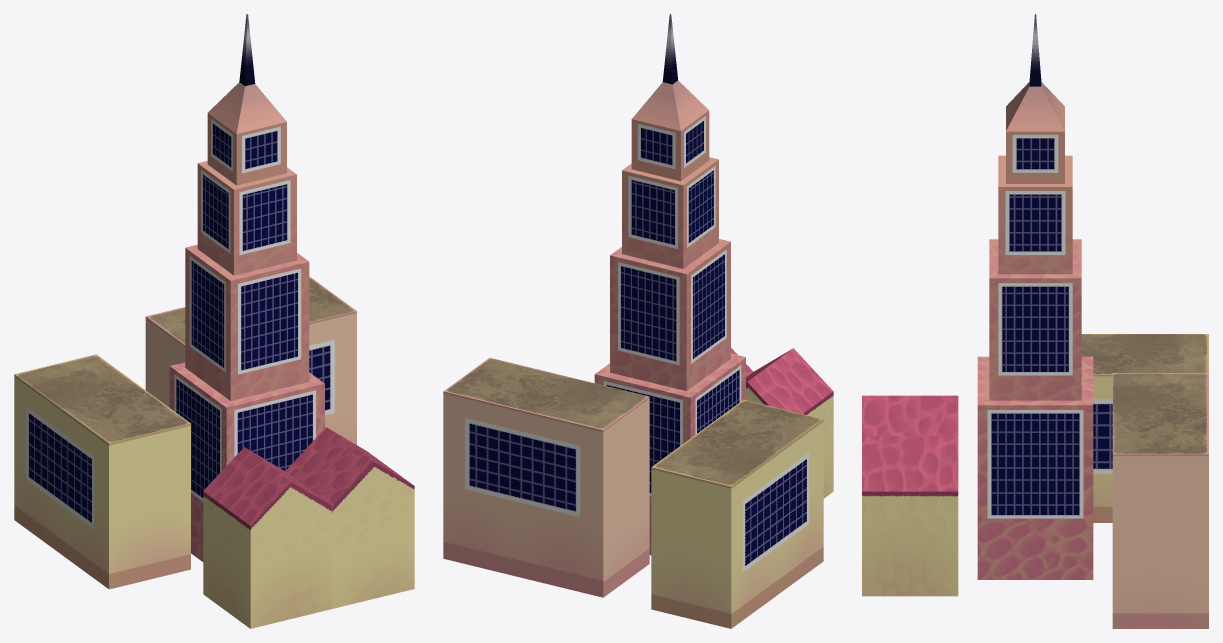
The model's file is City.fbx.
3 renders of one model, left to right at view 1: azimuth 30°, elevation 25°; view 2: azimuth 150°, elevation 25°; view 3: azimuth 270°, elevation 25°, orthographic. The views are drawn at different scales.
Visible parts, largest first — view 1: Buildings; view 2: Buildings; view 3: Buildings.
Part boxes in pixels (bbox=[...]): Buildings: bbox=[14, 14, 414, 628]; Buildings: bbox=[443, 14, 833, 628]; Buildings: bbox=[862, 14, 1208, 628].
Size of the model in its own units: 180 by 310 by 180.
